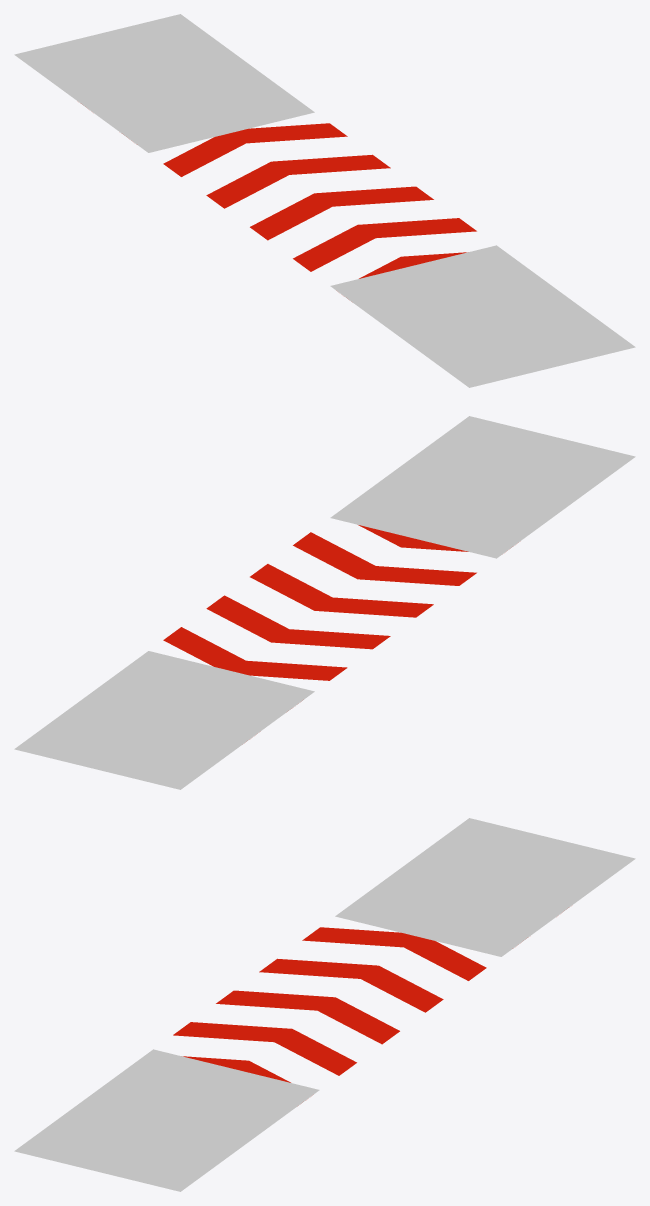
File: reverseItem.fbx
The picture shows the model from 3 angles, top to bottom: view 1: azimuth 30°, elevation 25°; view 2: azimuth 150°, elevation 25°; view 3: azimuth 330°, elevation 25°; orthographic projection.
Visible parts, largest first — view 1: Plane, arrows; view 2: Plane, arrows; view 3: Plane, arrows.
Boxes of the visible parts, x1=… form: Plane: x1=14, y1=14, x2=635, y2=387; arrows: x1=163, y1=123, x2=476, y2=278; Plane: x1=14, y1=416, x2=635, y2=789; arrows: x1=163, y1=525, x2=476, y2=680; Plane: x1=14, y1=818, x2=635, y2=1191; arrows: x1=173, y1=927, x2=486, y2=1082.
Bounding box in the file's own units: 200 × 0.1001 × 947.
